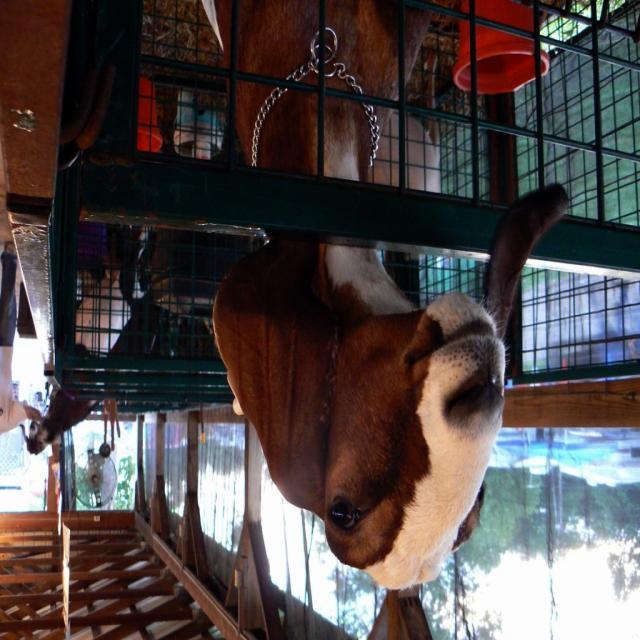Goat: (202, 2, 569, 593), (20, 226, 149, 457)
